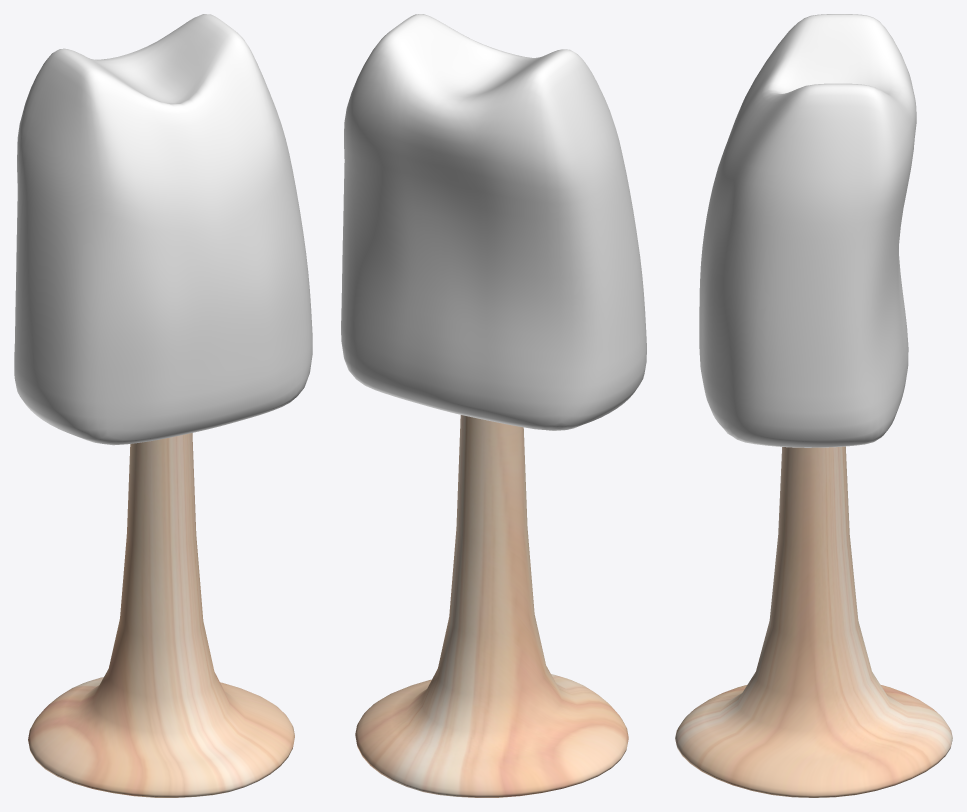
The model's file is Manequin_White.fbx.
3 views of the same model, side by side, from view 1: azimuth 30°, elevation 25°; view 2: azimuth 150°, elevation 25°; view 3: azimuth 270°, elevation 25° (orthographic). The views are drawn at different scales.
Parts seen in each view (by area): view 1: Shirt, Manequin:Cylinder; view 2: Shirt, Manequin:Cylinder; view 3: Shirt, Manequin:Cylinder.
Part boxes in pixels (x1,y1,x2,y2): Shirt: [14, 14, 312, 445]; Manequin:Cylinder: [28, 433, 294, 797]; Shirt: [341, 14, 646, 430]; Manequin:Cylinder: [355, 415, 628, 797]; Shirt: [699, 14, 916, 447]; Manequin:Cylinder: [675, 446, 952, 797].
Bounding box in the file's own units: 0.3404 × 0.8493 × 0.3067.
2 materials, 2 textured.
